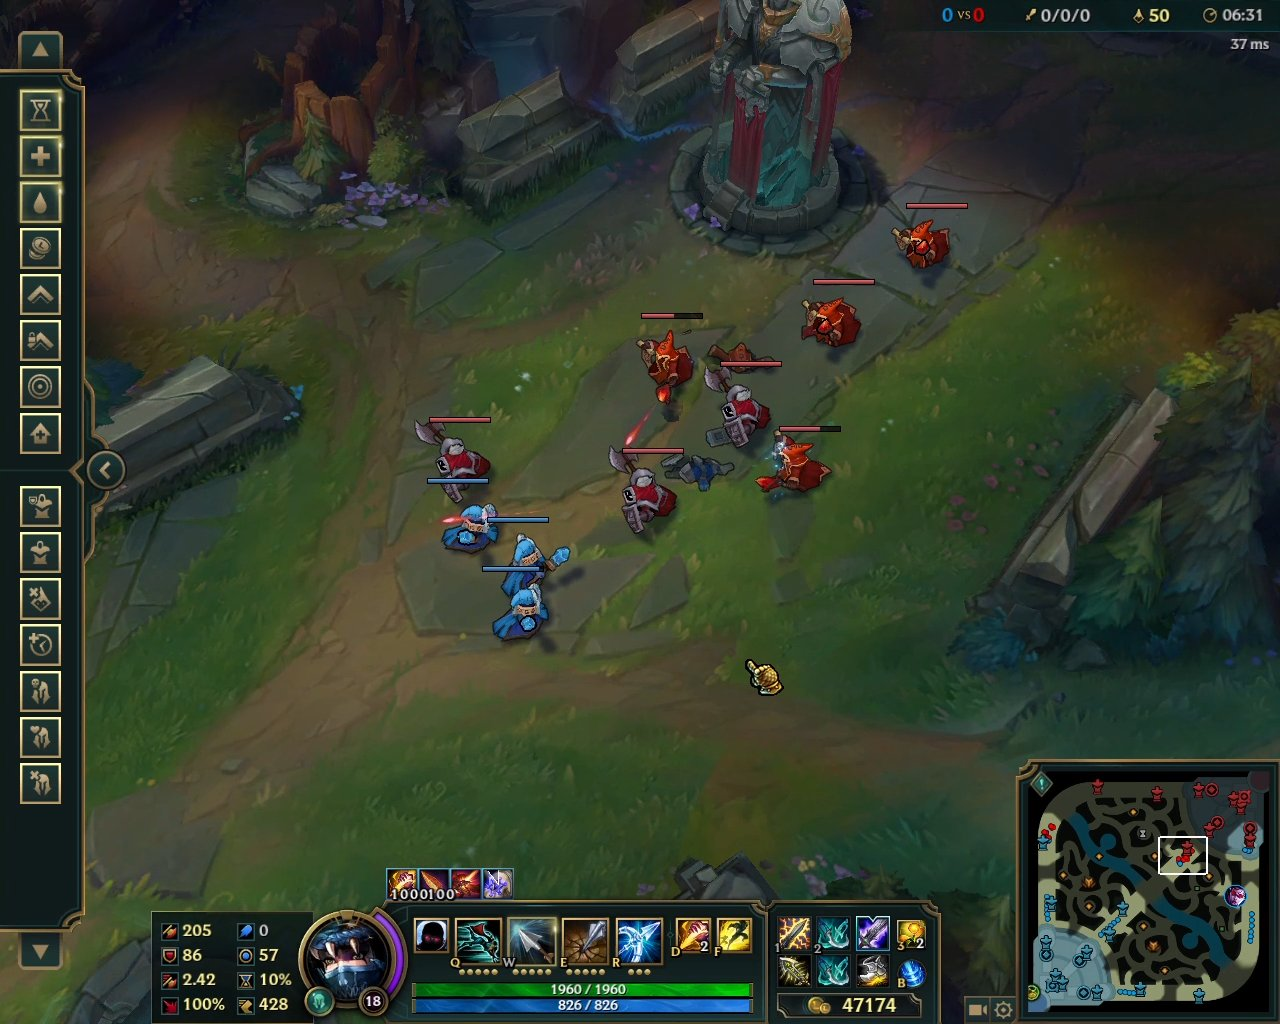EnemyMinion: (600, 444, 689, 543), (409, 414, 495, 507), (701, 359, 782, 453), (752, 424, 844, 498), (634, 313, 702, 412), (789, 279, 875, 355), (883, 203, 968, 277)
Tower: (678, 1, 862, 247)
